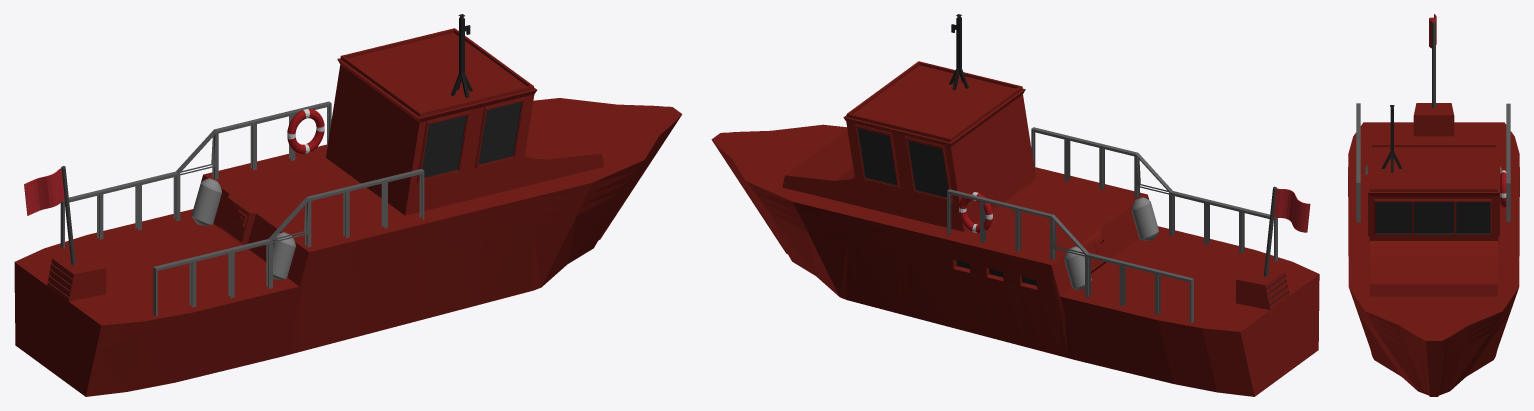
Rendered from redboat.dae.
3 renders of one model, left to right at view 1: azimuth 30°, elevation 25°; view 2: azimuth 150°, elevation 25°; view 3: azimuth 270°, elevation 25°, orthographic. The views are drawn at different scales.
Visible parts, largest first — view 1: Boat, Cube.003, Cube.002, Cylinder.002, Cylinder, Torus, Cylinder.001, Cube.001; view 2: Boat, Cube.002, Cube.003, Cylinder.002, Cylinder.001, Cylinder, Torus, Cube.001; view 3: Boat, Cube.003, Cube.002, Cylinder.002, Cube.001, Torus.
Part boxes in pixels (x1,y1,x2,y2): Boat: (14,28,682,396); Cube.003: (153,169,424,316); Cube.002: (60,101,331,248); Cylinder.002: (24,166,75,264); Cylinder: (191,178,221,225); Torus: (287,109,324,153); Cylinder.001: (265,232,295,279); Cube.001: (451,14,472,97); Boat: (711,61,1319,396); Cube.002: (947,189,1193,323); Cube.003: (1031,127,1277,261); Cylinder.002: (1263,186,1310,276); Cylinder.001: (1131,197,1158,240); Cylinder: (1064,246,1091,289); Torus: (959,192,992,232); Cube.001: (949,14,969,90); Boat: (1348,103,1519,396); Cube.003: (1356,103,1360,222); Cube.002: (1506,103,1510,221); Cylinder.002: (1429,14,1436,107); Cube.001: (1381,105,1401,172); Torus: (1500,169,1506,207).
Bounding box in the file's own units: 8.54 × 2.4 × 3.5.
